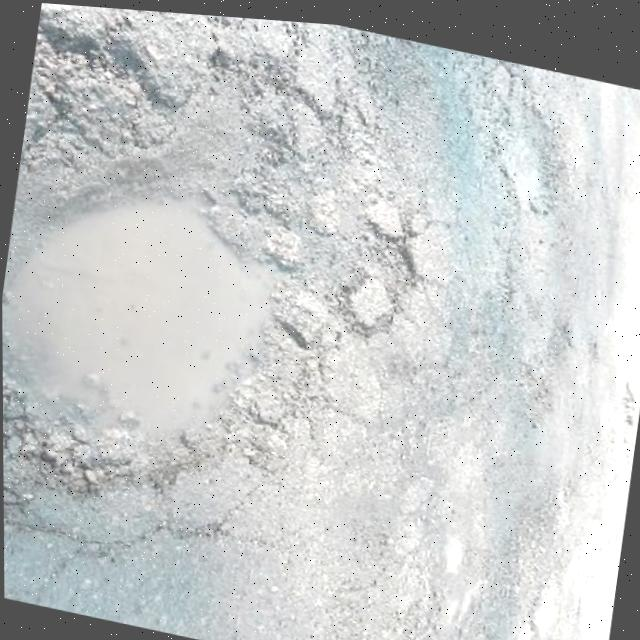Pothole: (0, 13, 380, 552), (354, 209, 431, 300)
